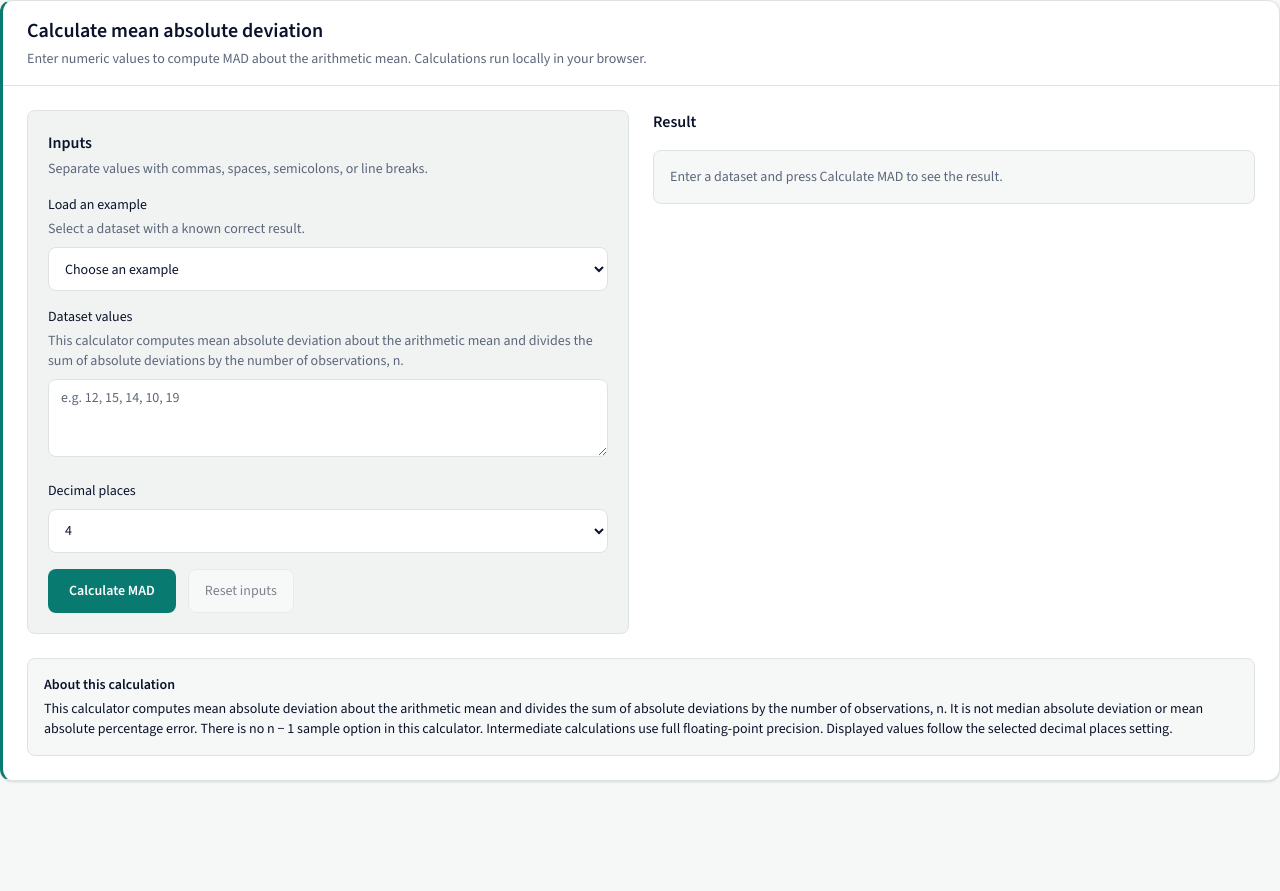
MeanAbsoluteDeviationCalculator copy and reset › resets to the genuine initial state
In the text box labelled "Dataset values": (328, 418) [48,379,608,457], type "12, 15, 14, 10, 19"
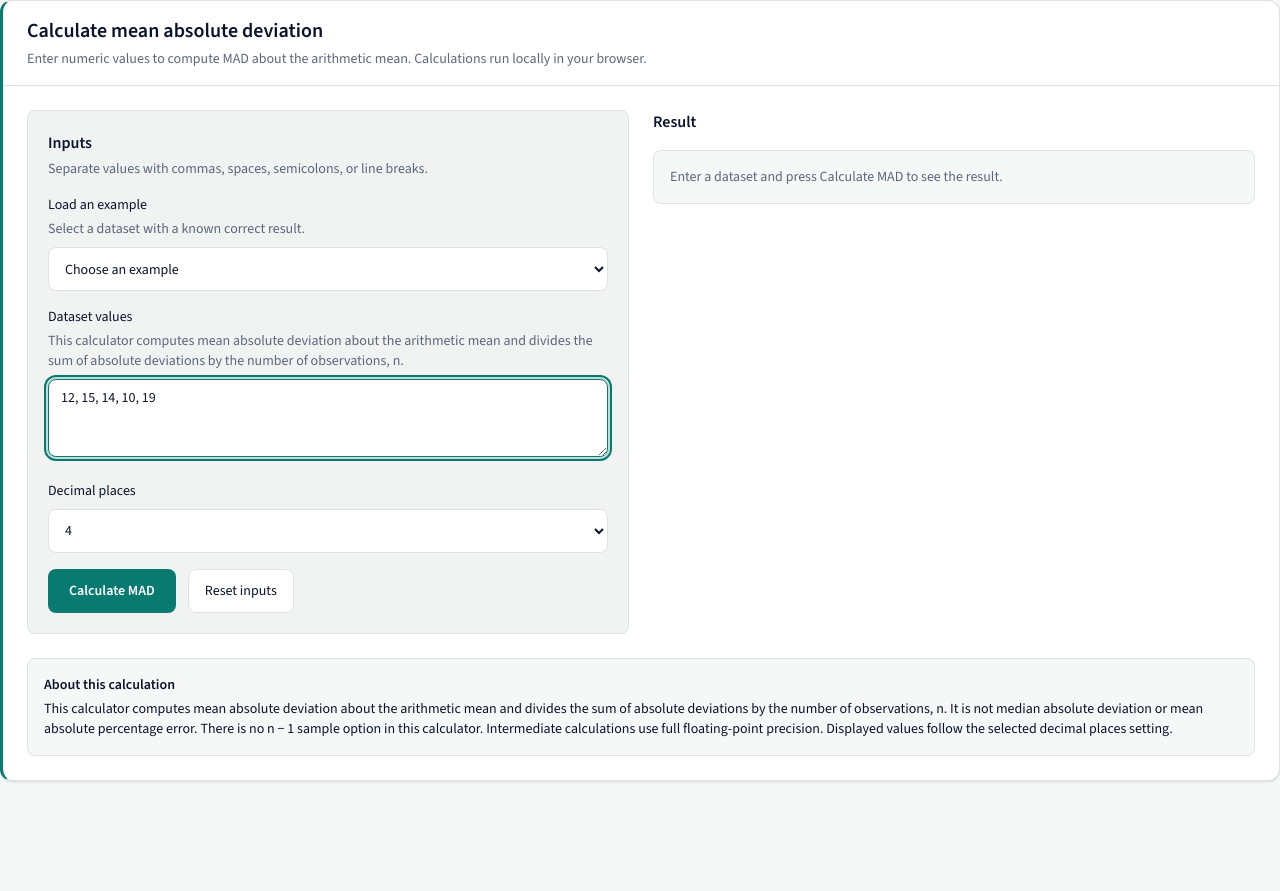
Click the button "Calculate MAD": (112, 591) [48,569,176,613]
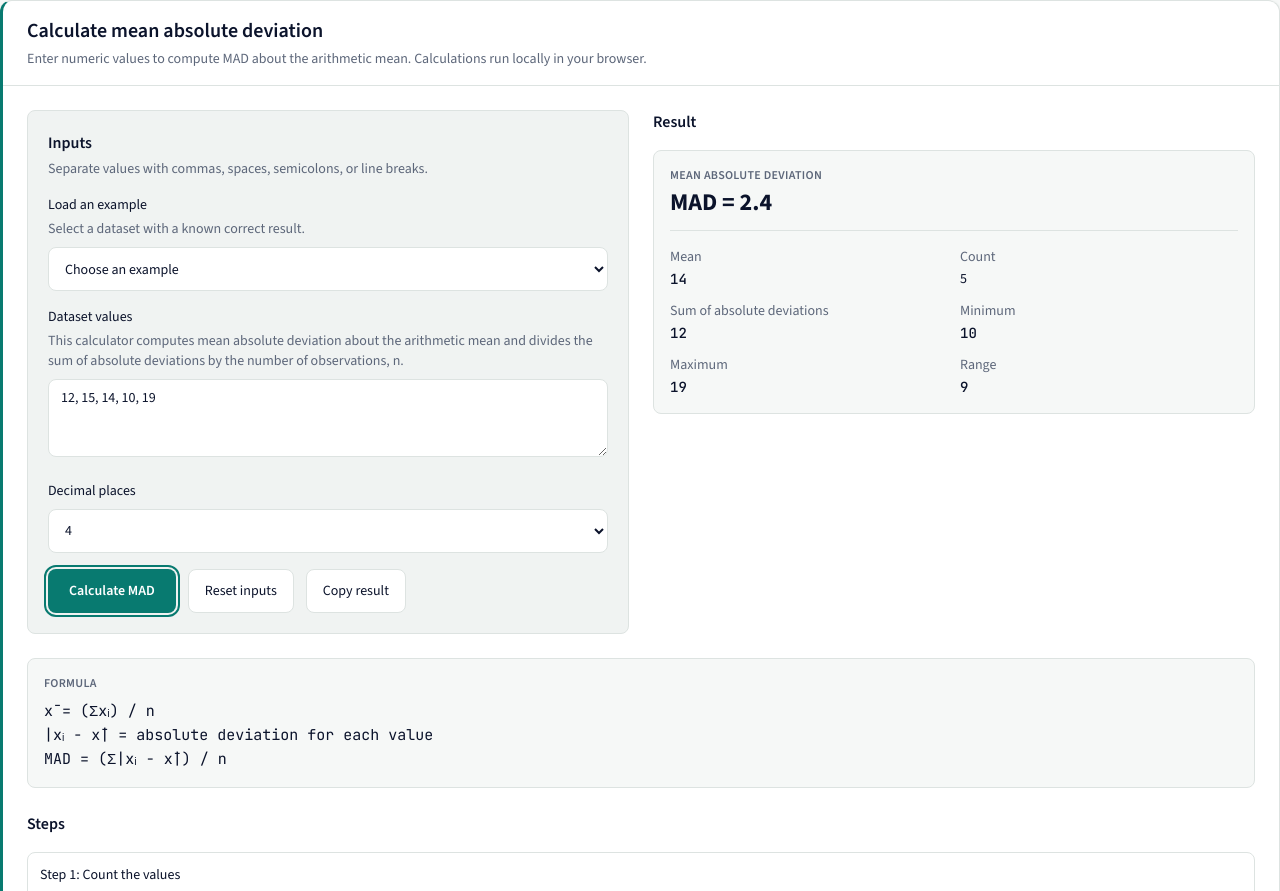
Expected: the text "2.4" is shown, [740,186,772,218]
Click the button "Reset inputs": (241, 591) [188,569,294,613]
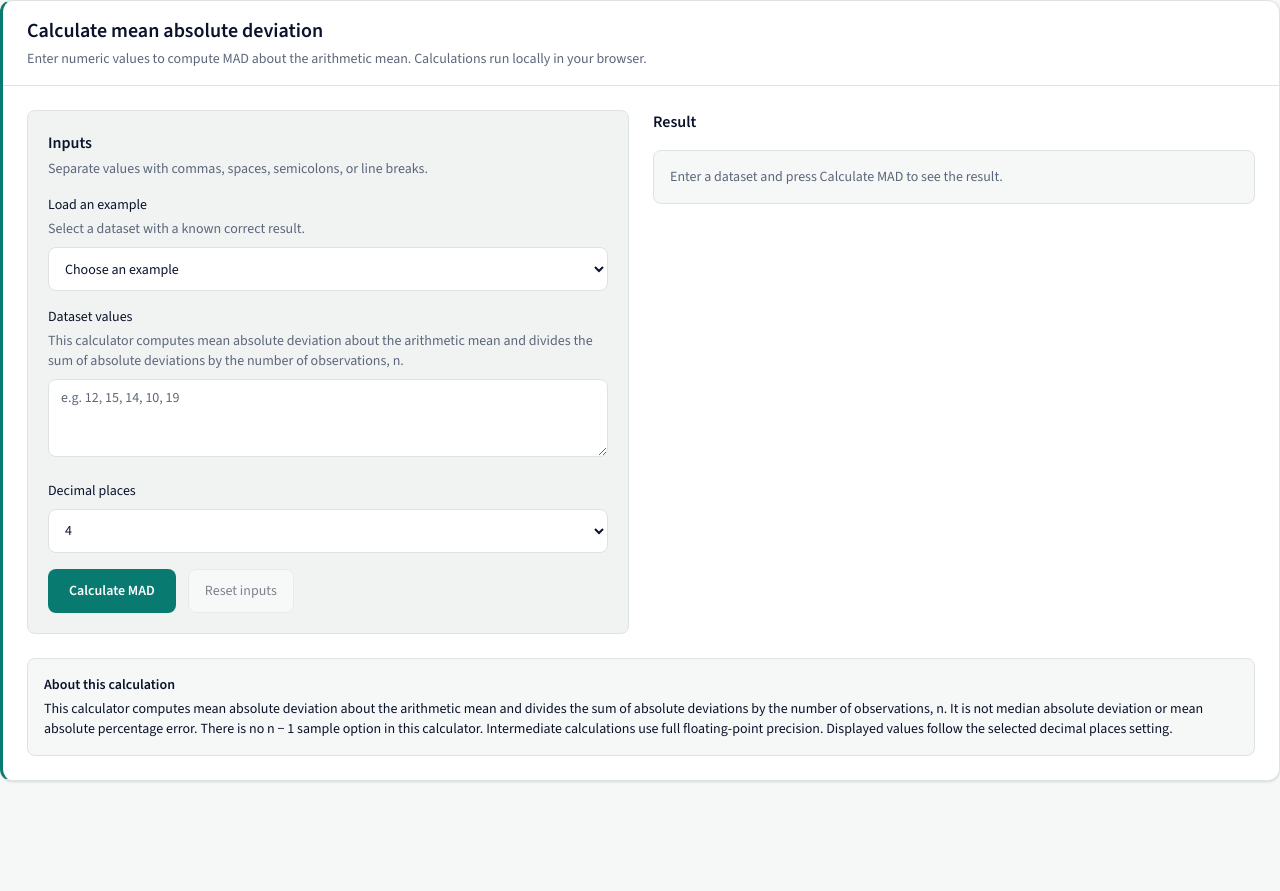
Expected: the text "Enter a dataset and press Calculate MAD to see the result." is shown, [670,167,1003,186]
Expected: the button "Copy result" is gone
Expected: the button "Reset inputs" is disabled, [188,569,294,613]
